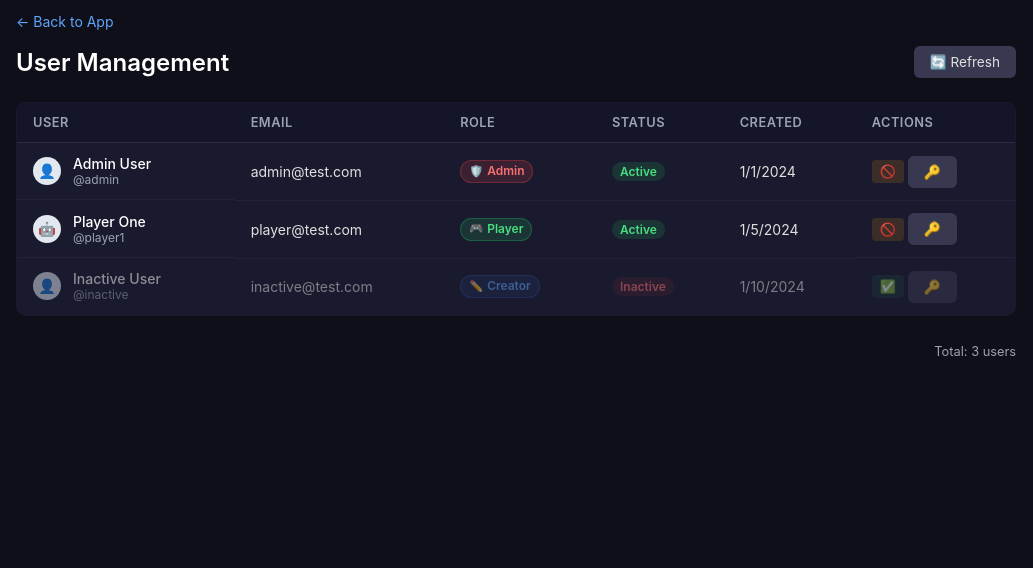
Test: AdminUsersView › resets password on confirmation
Click the button with test id "reset-password-2": (932, 229) [908,213,957,245]
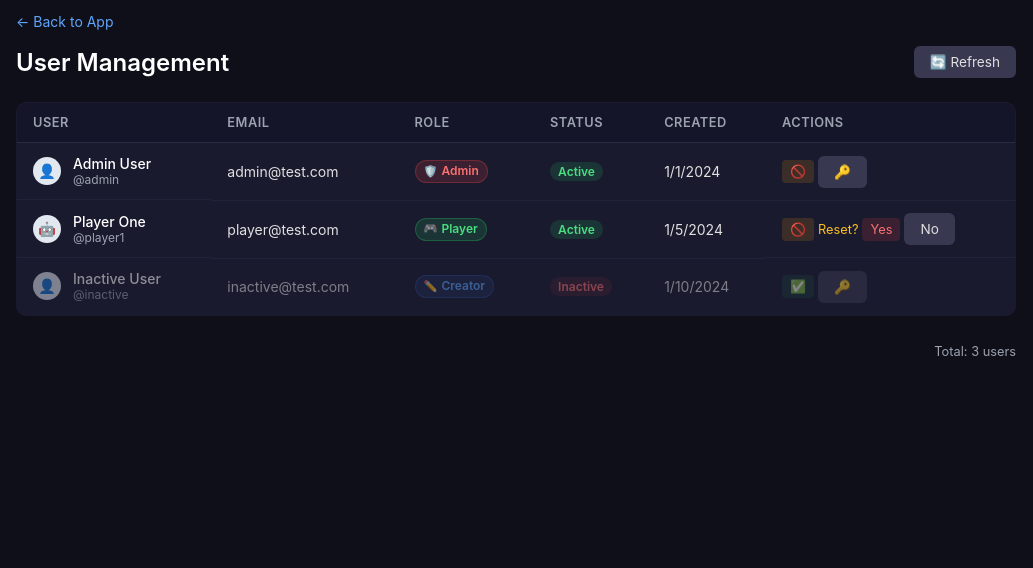
Click the button with test id "confirm-reset-2": (881, 229) [862,218,900,240]
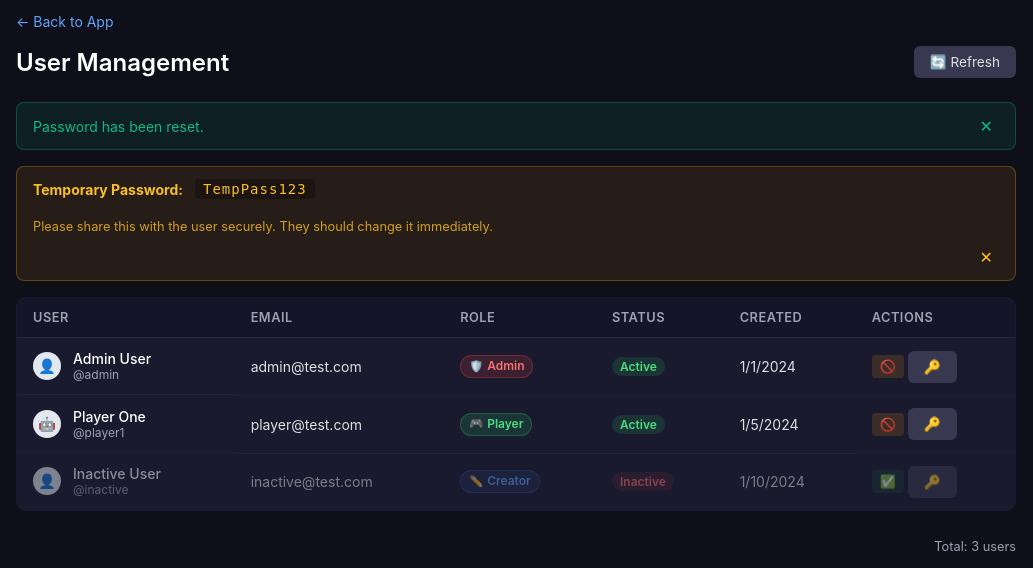
Expected: the message with test id "admin-temp-password" is shown, [16,166,1016,281]
